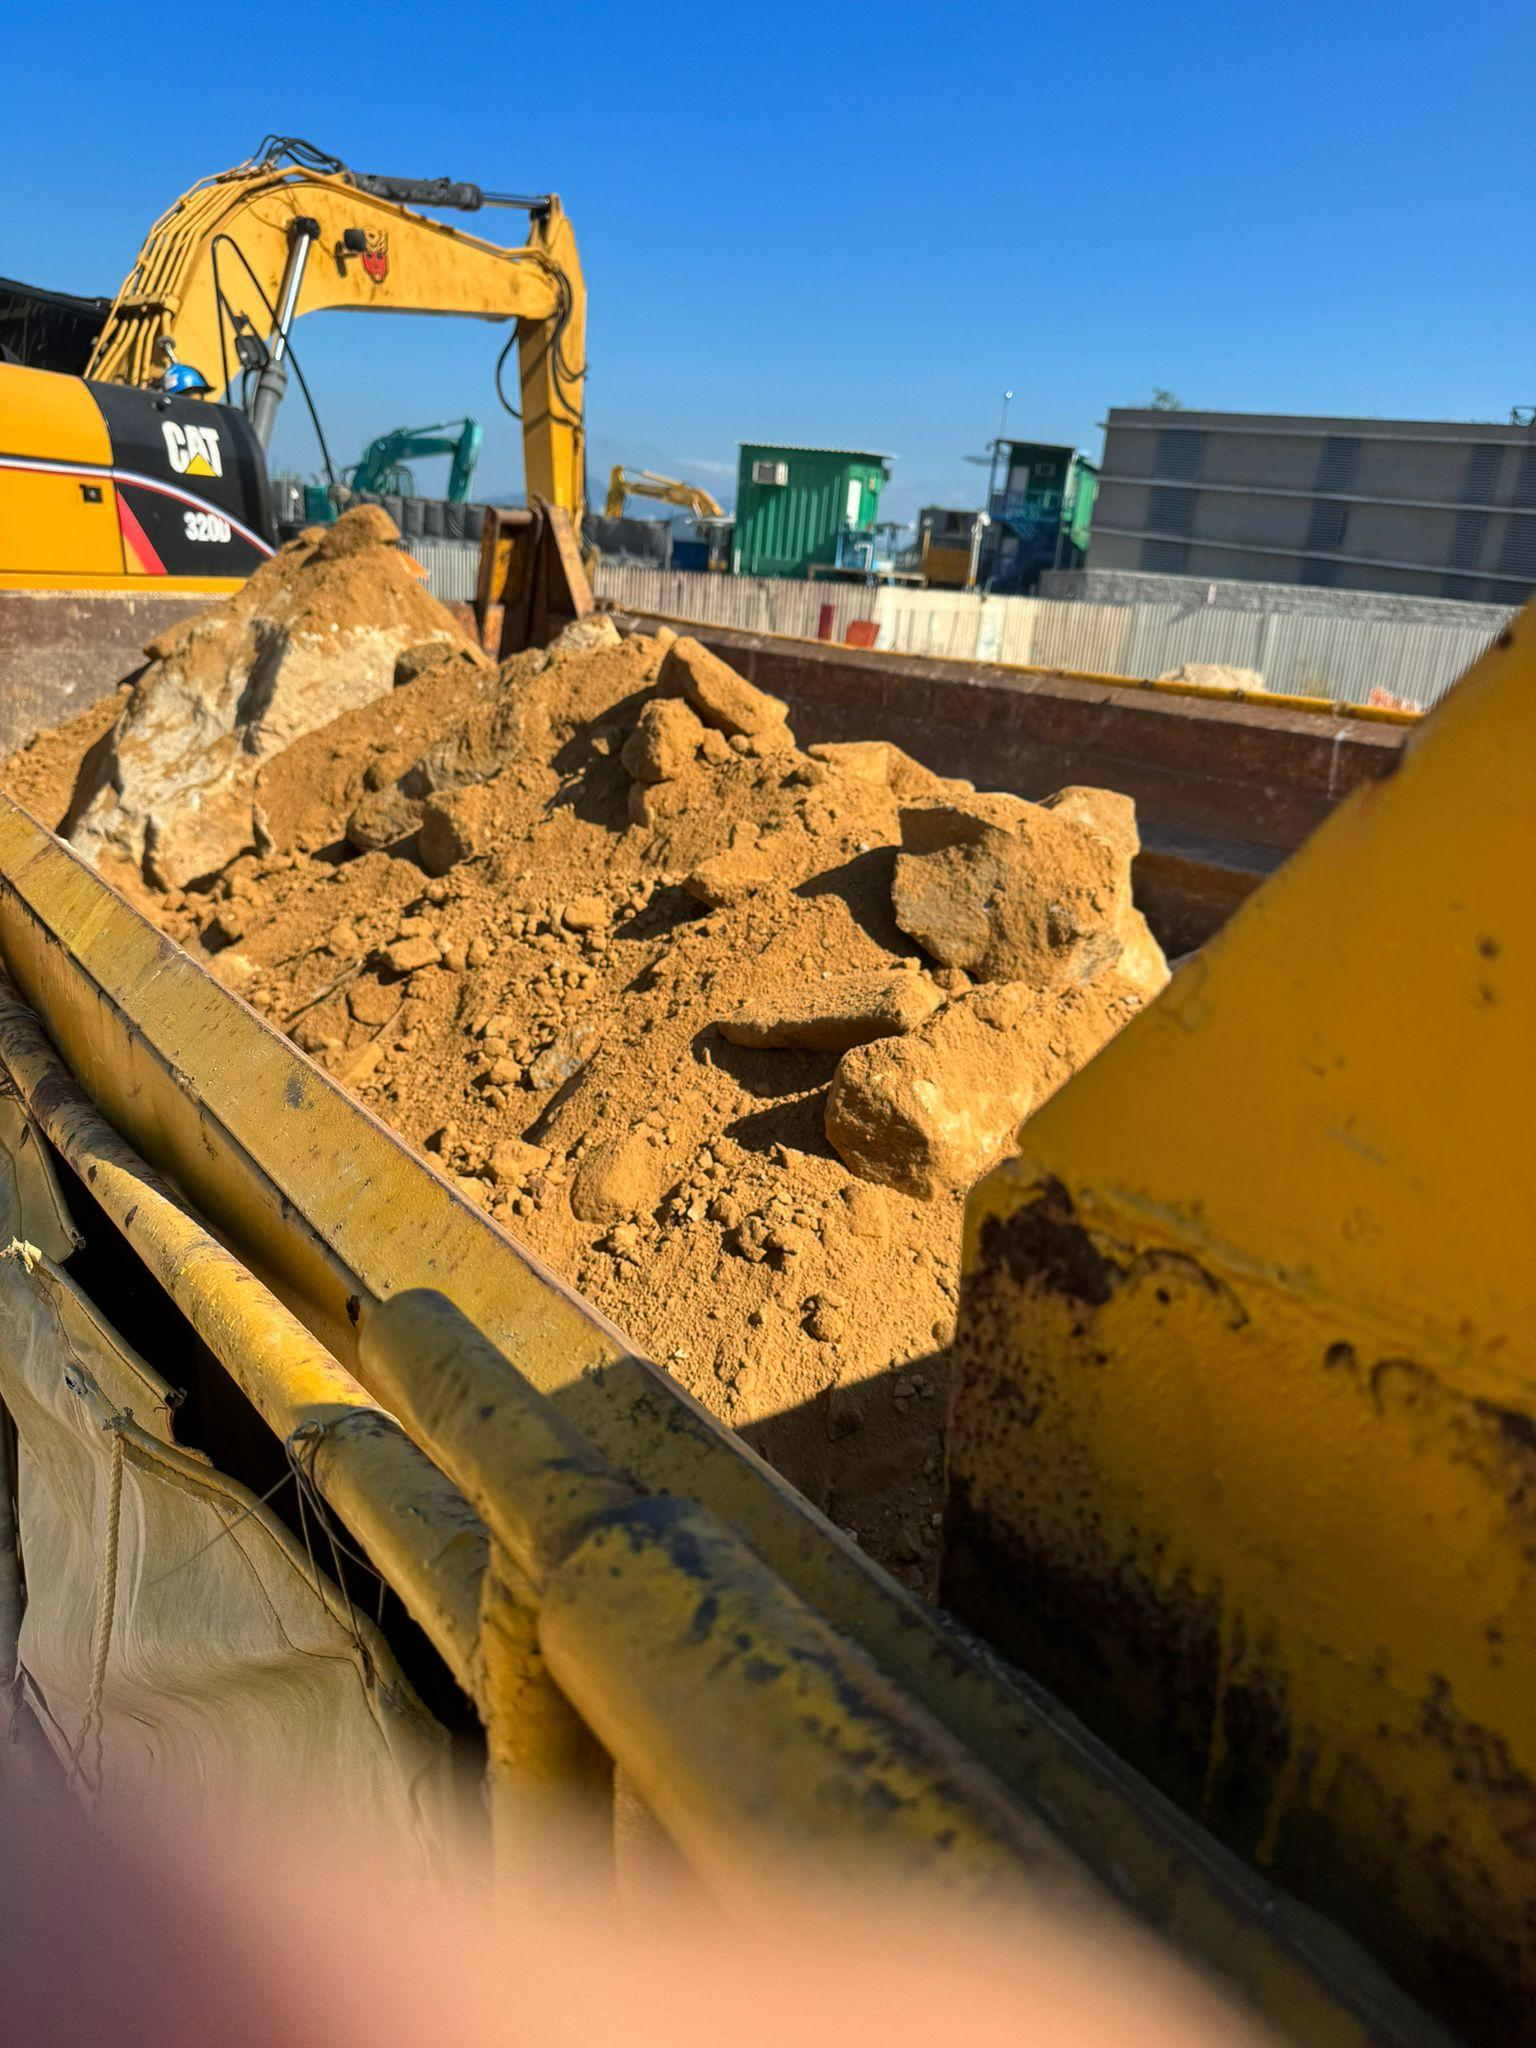dry: (3, 500, 1160, 1563)
